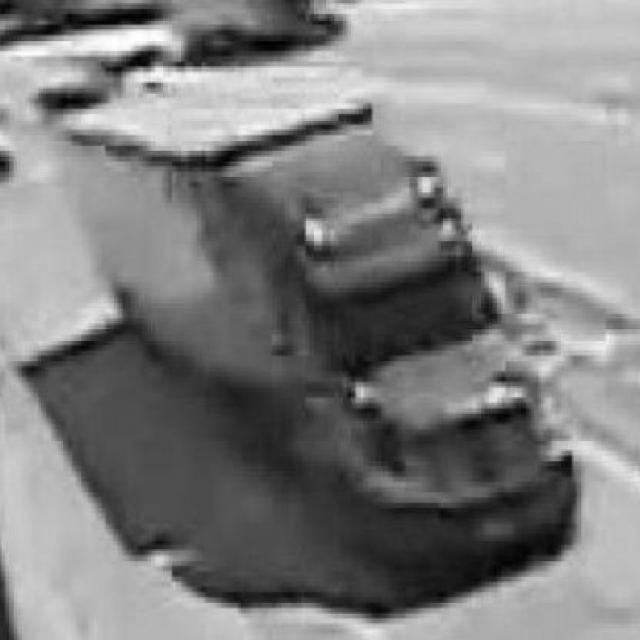Box Truck: (54, 70, 580, 544)
